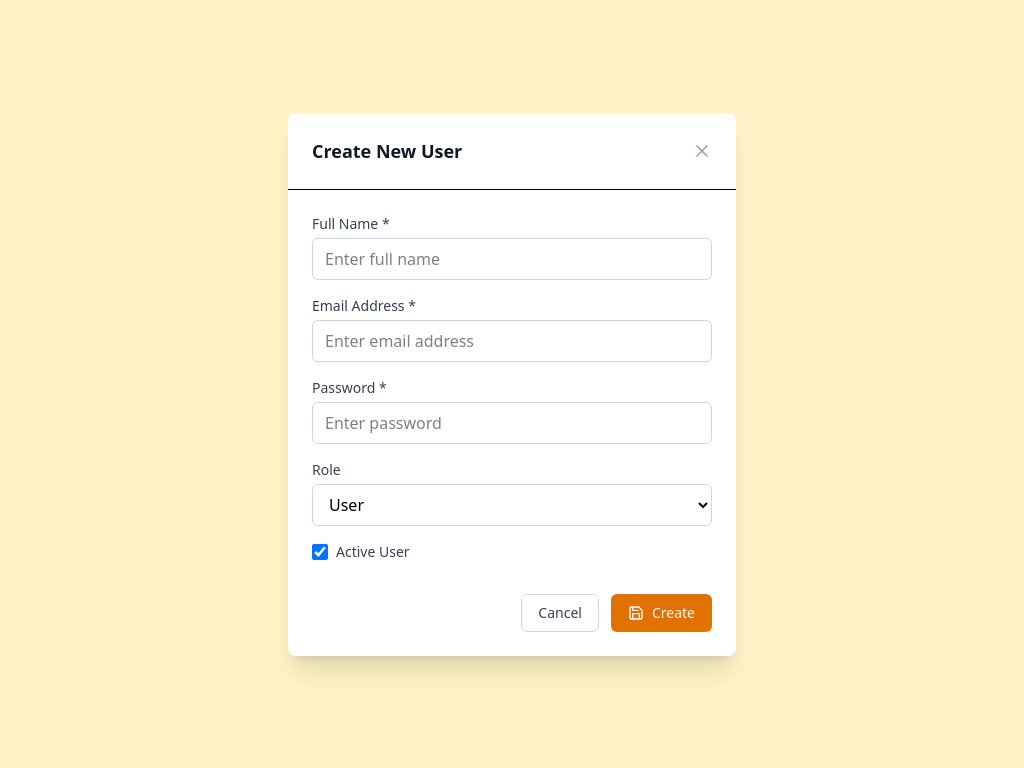
Test: UserForm Component › validates required fields on submit
Click the button "Create" at (661, 612), box [611, 594, 712, 632]
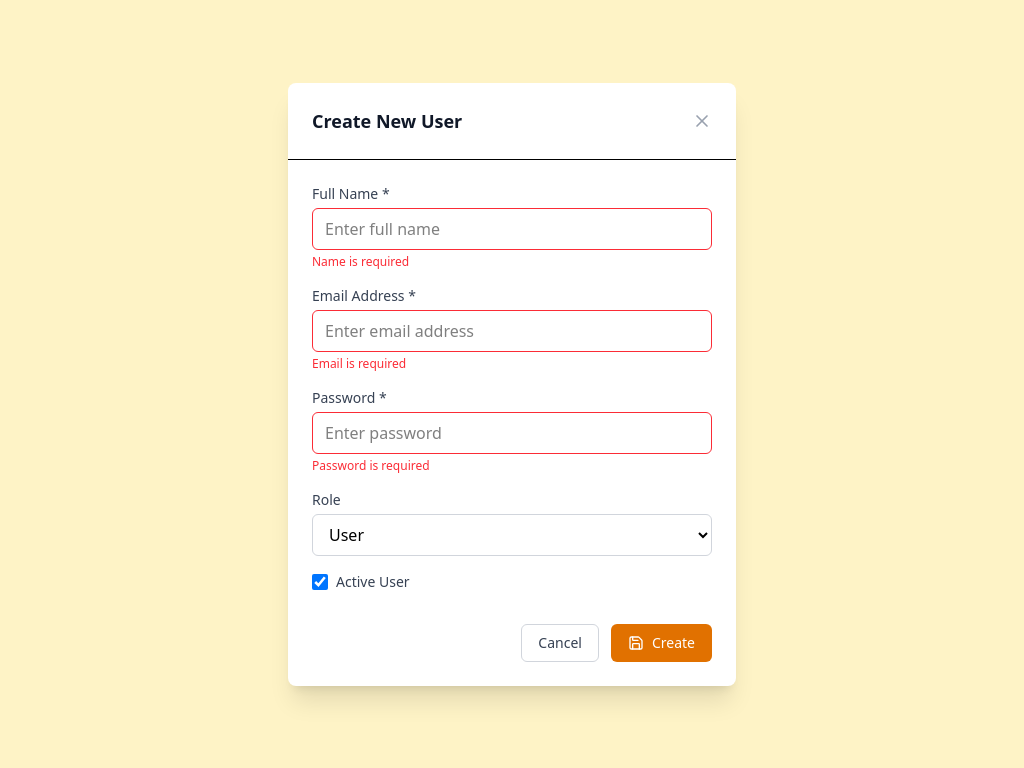
Check: the text "Name is required" is shown, box [312, 252, 409, 270]
Check: the text "Email is required" is shown, box [312, 354, 406, 372]
Check: the text "Password is required" is shown, box [312, 456, 430, 474]
